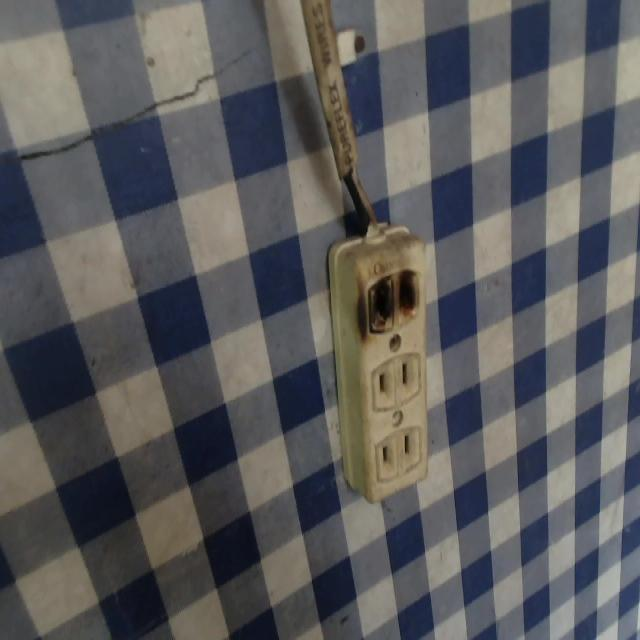-: (360, 257, 425, 340)
